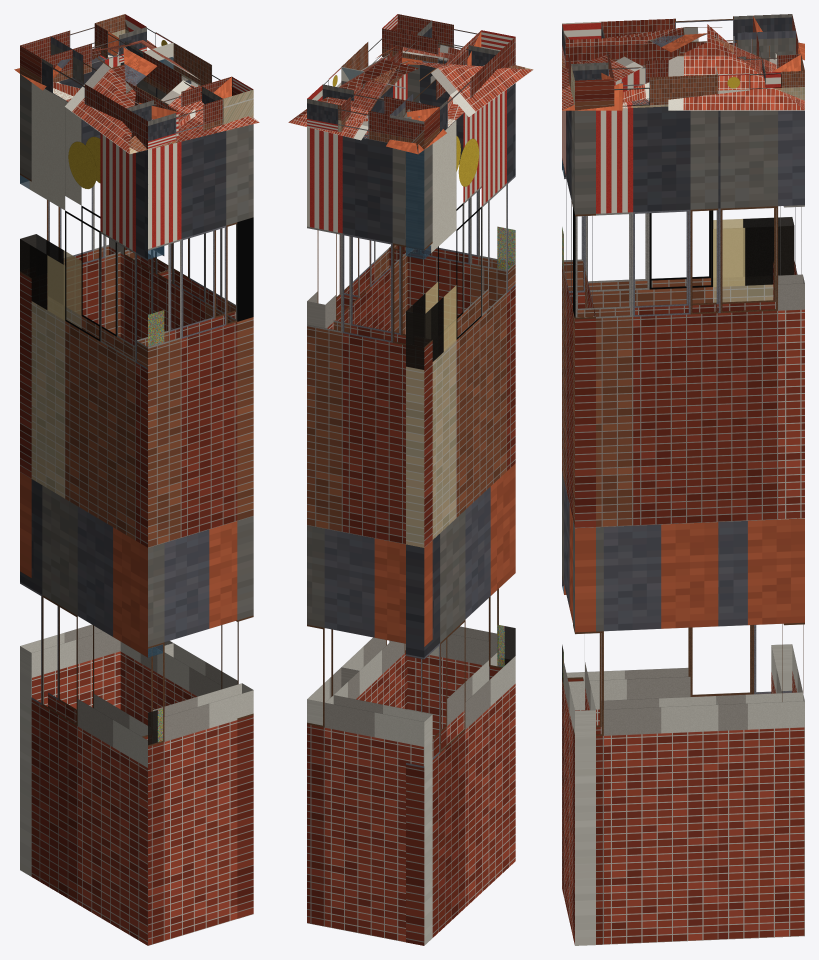
3 views of the same model, side by side, from view 1: azimuth 30°, elevation 25°; view 2: azimuth 150°, elevation 25°; view 3: azimuth 270°, elevation 25° (orthographic). The views are drawn at different scales.
Parts seen in each view (by area): view 1: 238572339__wall_0_xb, 238572339__wall_1_xb, 238572339__wall_4_xb, 238572339__wall_2_xb, 238572339__wall_3_xb, 238572339__wall_0_xf, 238572339__cornice_2, 238572339__cornice_0, 238572339_roof_left_xb, 238572339__cornice_4, 238572339_roof_front_xb, 238572339__cornice_1 (+1 smaller); view 2: 238572339__wall_4_xb, 238572339__wall_0_xb, 238572339__wall_1_xb, 238572339__wall_2_xb, 238572339__wall_0_xf, 238572339__cornice_4, 238572339__wall_3_xb, 238572339__cornice_0, 238572339__cornice_1, 238572339_roof_left_xb, 238572339_roof_back_xb, 238572339_roof_right_xb (+2 smaller); view 3: 238572339__wall_2_xb, 238572339__wall_3_xb, 238572339__wall_1_xb, 238572339__wall_0_xb, 238572339__cornice_0, 238572339_roof_right_xb, 238572339__wall_0_xf, 238572339__cornice_2, 238572339__cornice_1, 238572339__wall_4_xb, 238572339_roof_front_xb, 238572339__cornice_3 (+3 smaller).
Part boxes in pixels (x1=…): 238572339__wall_0_xb: x1=20, y1=82, x2=164, y2=945; 238572339__wall_1_xb: x1=137, y1=118, x2=253, y2=945; 238572339__wall_4_xb: x1=20, y1=50, x2=134, y2=876; 238572339__wall_2_xb: x1=157, y1=76, x2=253, y2=918; 238572339__wall_3_xb: x1=109, y1=48, x2=172, y2=725; 238572339__wall_0_xf: x1=20, y1=175, x2=163, y2=744; 238572339__cornice_2: x1=143, y1=42, x2=253, y2=124; 238572339__cornice_0: x1=42, y1=36, x2=178, y2=149; 238572339_roof_left_xb: x1=14, y1=47, x2=137, y2=153; 238572339__cornice_4: x1=20, y1=14, x2=146, y2=83; 238572339_roof_front_xb: x1=123, y1=47, x2=259, y2=153; 238572339__cornice_1: x1=126, y1=76, x2=241, y2=149; 238572339__wall_4_xb: x1=307, y1=127, x2=432, y2=945; 238572339__wall_0_xb: x1=406, y1=83, x2=515, y2=945; 238572339__wall_1_xb: x1=389, y1=58, x2=515, y2=737; 238572339__wall_2_xb: x1=341, y1=57, x2=415, y2=709; 238572339__wall_0_xf: x1=406, y1=149, x2=514, y2=666; 238572339__cornice_4: x1=307, y1=84, x2=439, y2=149; 238572339__wall_3_xb: x1=307, y1=230, x2=359, y2=725; 238572339__cornice_0: x1=390, y1=30, x2=515, y2=149; 238572339__cornice_1: x1=382, y1=14, x2=499, y2=66; 238572339_roof_left_xb: x1=400, y1=61, x2=533, y2=153; 238572339_roof_back_xb: x1=288, y1=66, x2=417, y2=154; 238572339_roof_right_xb: x1=289, y1=46, x2=418, y2=121; 238572339__wall_2_xb: x1=573, y1=98, x2=718, y2=944; 238572339__wall_3_xb: x1=716, y1=110, x2=804, y2=939; 238572339__wall_1_xb: x1=562, y1=104, x2=595, y2=945; 238572339__wall_0_xb: x1=562, y1=66, x2=794, y2=725; 238572339__cornice_0: x1=564, y1=14, x2=795, y2=68; 238572339_roof_right_xb: x1=562, y1=24, x2=804, y2=110; 238572339__wall_0_xf: x1=562, y1=162, x2=793, y2=682; 238572339__cornice_2: x1=571, y1=60, x2=718, y2=107; 238572339__cornice_1: x1=562, y1=21, x2=614, y2=110; 238572339__wall_4_xb: x1=771, y1=205, x2=804, y2=701; 238572339_roof_front_xb: x1=562, y1=33, x2=706, y2=110; 238572339__cornice_3: x1=718, y1=54, x2=804, y2=100.
Bounding box in the file's own units: 0.1198 × 0.7359 × 0.1845.
Materials: 1 (1 with a texture image).
